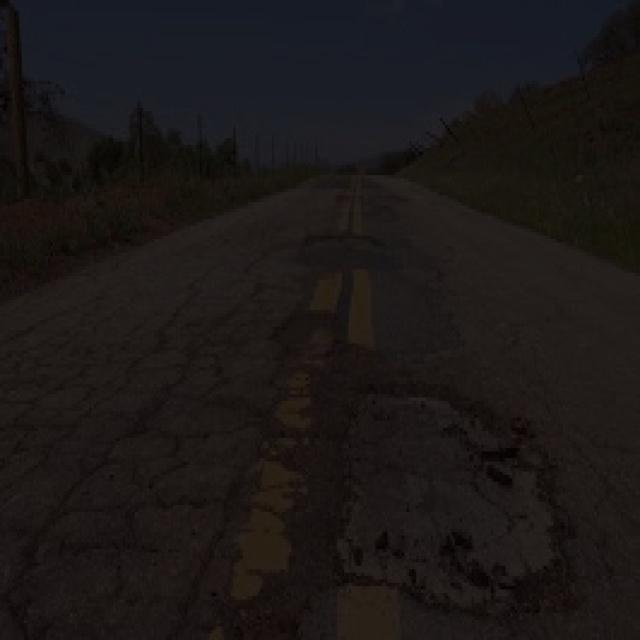Pothole: (325, 366, 568, 616), (272, 298, 366, 356), (300, 225, 389, 262)
